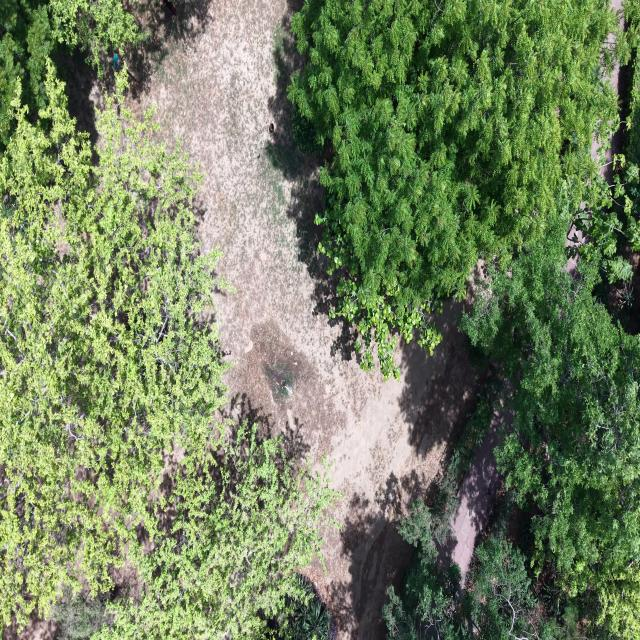DRY_AREA: (128, 0, 480, 639), (132, 0, 478, 639), (451, 411, 513, 581), (451, 411, 512, 583), (600, 123, 626, 184)
VEGETATION_TREE: (288, 0, 639, 639), (289, 0, 639, 638), (0, 0, 335, 637), (0, 64, 336, 639), (288, 0, 627, 377), (462, 2, 639, 638), (385, 217, 639, 638), (462, 224, 639, 636), (383, 382, 558, 639), (383, 504, 573, 639), (0, 0, 138, 150), (568, 0, 639, 291), (398, 379, 496, 547), (383, 482, 463, 639), (593, 0, 639, 255), (463, 533, 557, 639), (383, 522, 465, 639), (568, 155, 639, 284), (46, 0, 140, 73), (264, 575, 337, 639), (290, 576, 337, 639), (51, 588, 106, 639), (625, 0, 639, 164)
